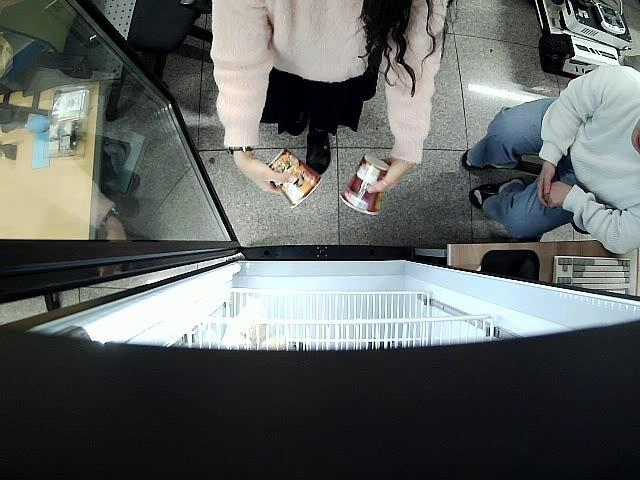06_nuguri_S: (268, 148, 322, 208), (339, 154, 388, 215)
